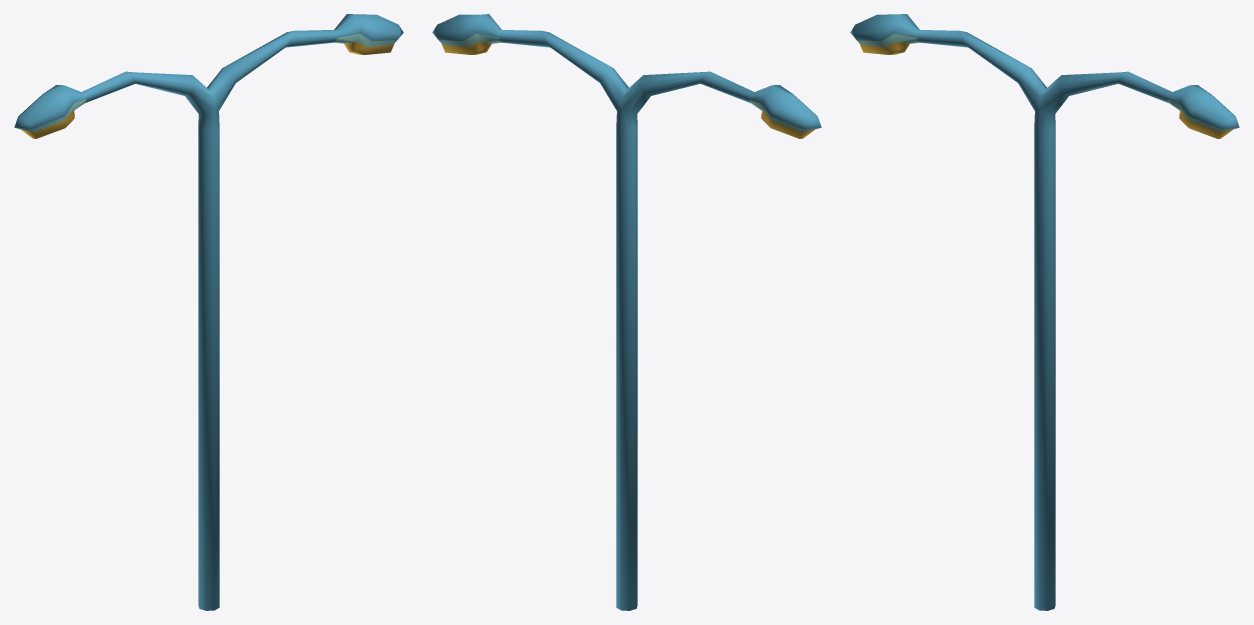
File: postelampadadupla (1).fbx
3 renders of one model, left to right at view 1: azimuth 30°, elevation 25°; view 2: azimuth 150°, elevation 25°; view 3: azimuth 330°, elevation 25°, orthographic.
Visible parts, largest first — view 1: Cylinder; view 2: Cylinder; view 3: Cylinder.
Boxes of the visible parts, x1,y1,x2,y2 form: Cylinder: (14, 14, 403, 610); Cylinder: (432, 14, 821, 610); Cylinder: (850, 14, 1239, 610).
Bounding box in the file's own units: 203 × 278 × 17.78.
Materials: 1 (1 with a texture image).
